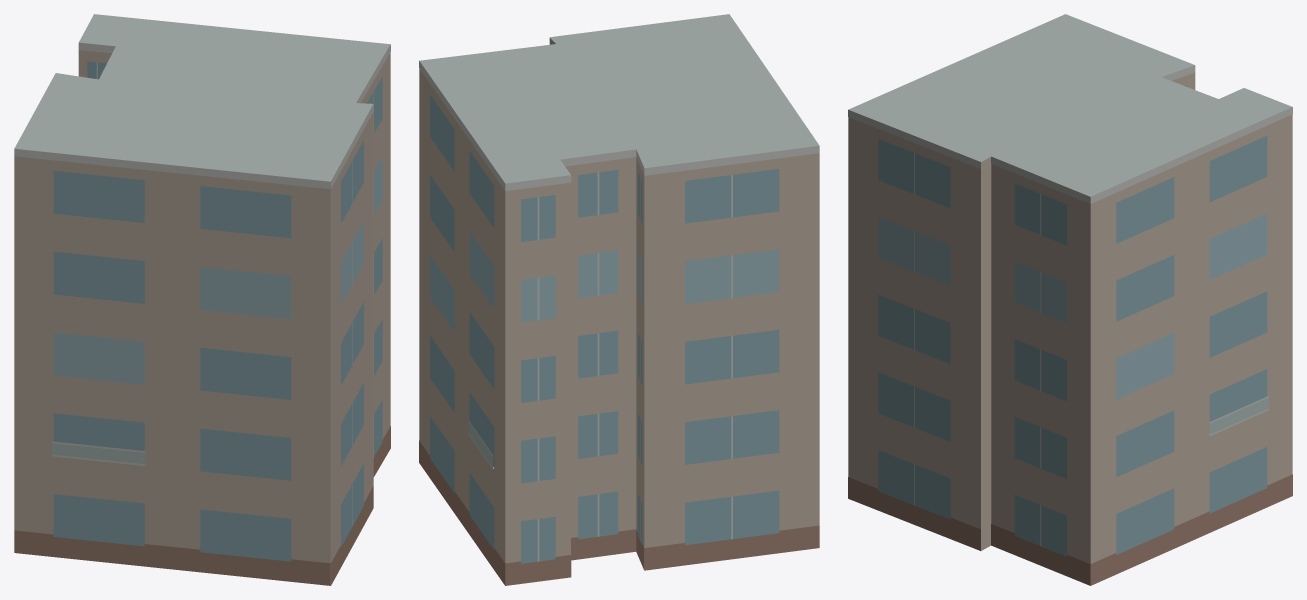
Rendered from survey-upis-32975913.glb.
3 renders of one model, left to right at view 1: azimuth 30°, elevation 25°; view 2: azimuth 150°, elevation 25°; view 3: azimuth 270°, elevation 25°, orthographic. The views are drawn at different scales.
Parts seen in each view (by area): view 1: survey-upis-32975913.tmp; view 2: survey-upis-32975913.tmp; view 3: survey-upis-32975913.tmp.
Part boxes in pixels (x1,y1,x2,y2): survey-upis-32975913.tmp: (14,14,390,585); survey-upis-32975913.tmp: (419,14,819,585); survey-upis-32975913.tmp: (848,14,1292,585).
Size of the model in its own units: 13.21 by 13.1 by 13.58.
